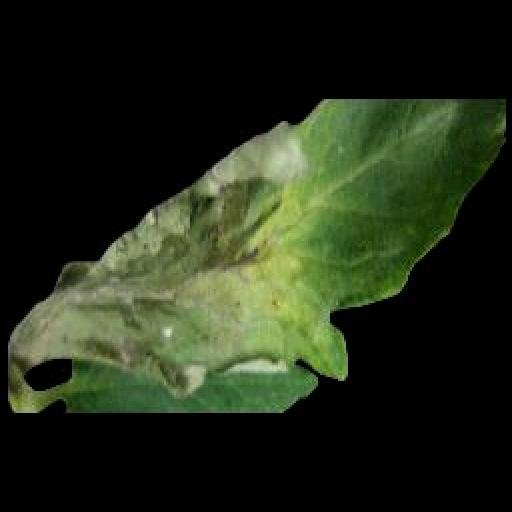disease_tomato: (8, 96, 506, 414)
